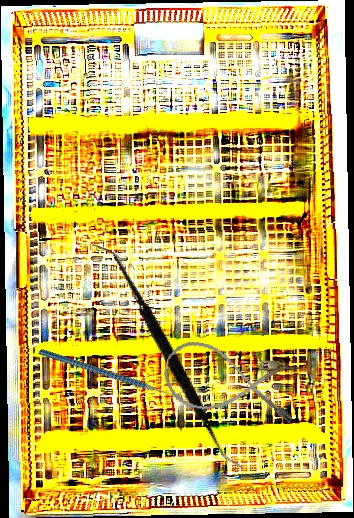Cannula: (158, 336, 304, 429)
Chopper: (37, 305, 187, 438)
Spatula Surgical: (31, 242, 304, 471)
